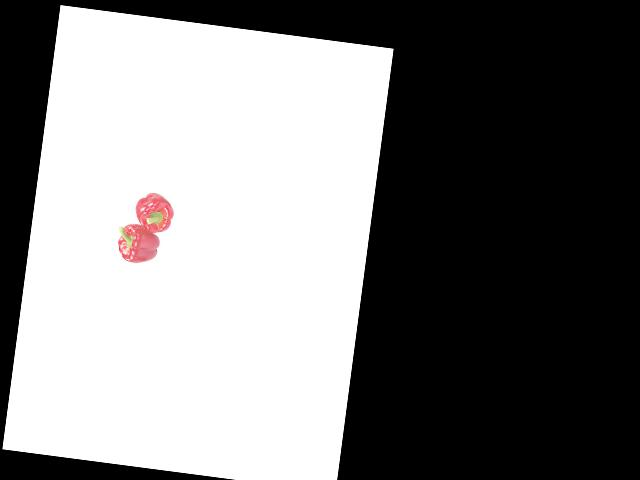bell_pepper: (113, 220, 165, 267)
